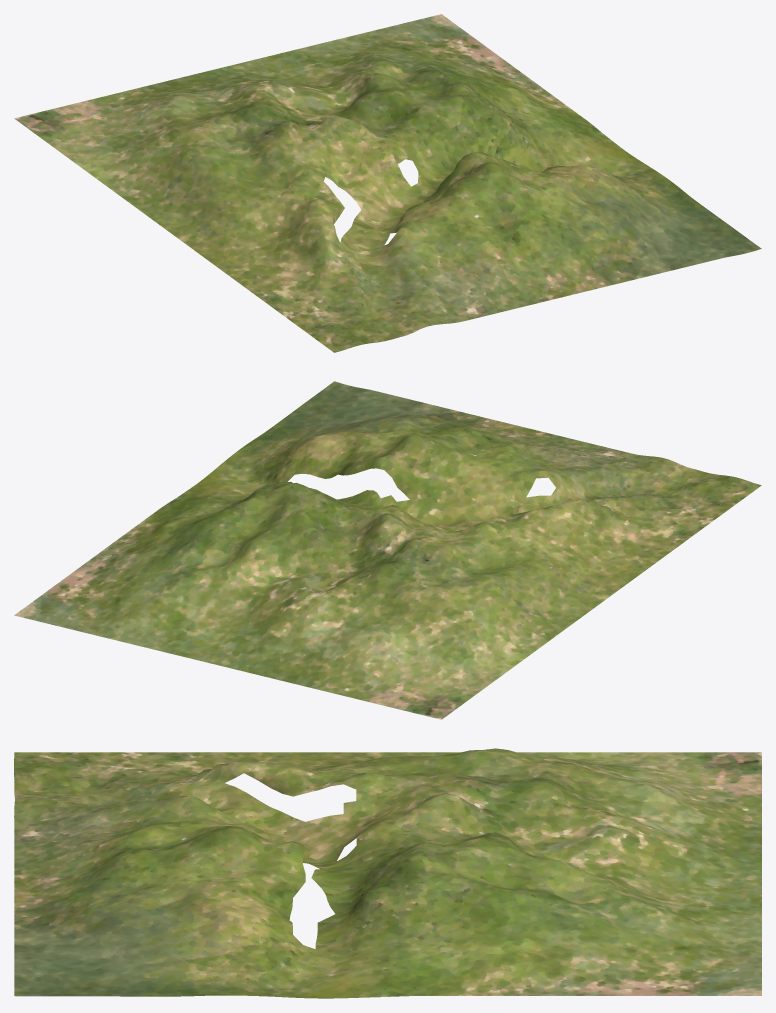
File: mountain_road.fbx
3 renders of one model, top to bottom at view 1: azimuth 30°, elevation 25°; view 2: azimuth 150°, elevation 25°; view 3: azimuth 270°, elevation 25°, orthographic. The views are drawn at different scales.
Parts seen in each view (by area): view 1: Landscape; view 2: Landscape; view 3: Landscape.
Boxes of the visible parts, box(x1,y1,x2,y2) form: Landscape: box(14, 14, 761, 352); Landscape: box(14, 381, 761, 719); Landscape: box(14, 748, 761, 998).
Bounding box in the file's own units: 6467 × 909 × 8386.
1 material, 1 textured.
